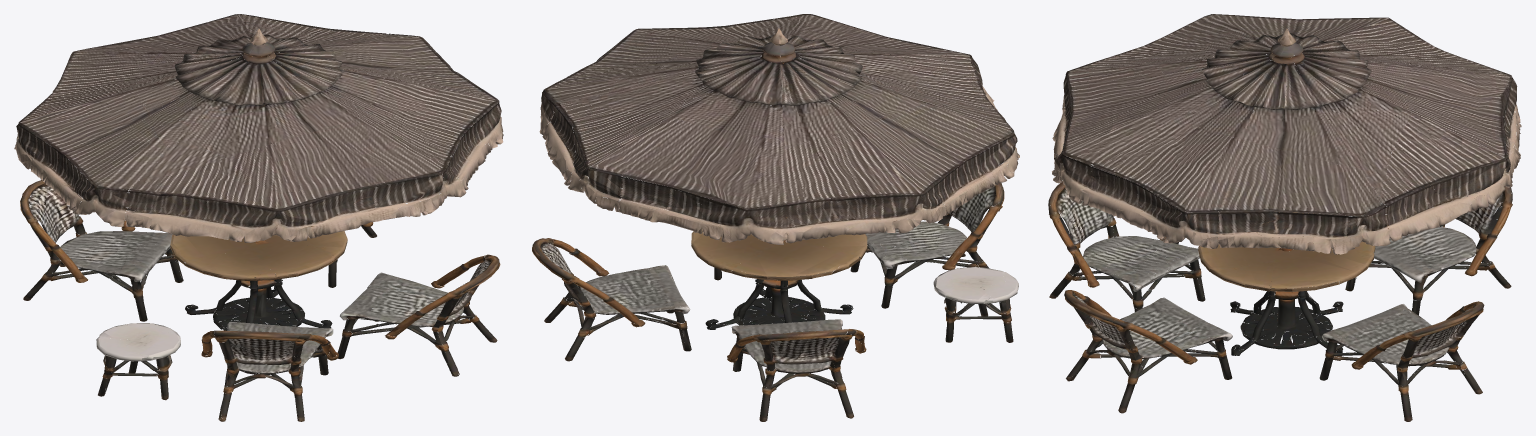
File: patio-seating-tripo.glb
3 renders of one model, left to right at view 1: azimuth 30°, elevation 25°; view 2: azimuth 150°, elevation 25°; view 3: azimuth 270°, elevation 25°, orthographic. The views are drawn at different scales.
Visible parts, largest first — view 1: PatioSeatingOptimized; view 2: PatioSeatingOptimized; view 3: PatioSeatingOptimized.
Boxes of the visible parts, box(x1,y1,x2,y2) form: PatioSeatingOptimized: box(14, 14, 503, 421); PatioSeatingOptimized: box(532, 14, 1019, 421); PatioSeatingOptimized: box(1048, 14, 1521, 421).
Bounding box in the file's own units: 4.25 × 2.85 × 4.
1 material, 1 textured.
